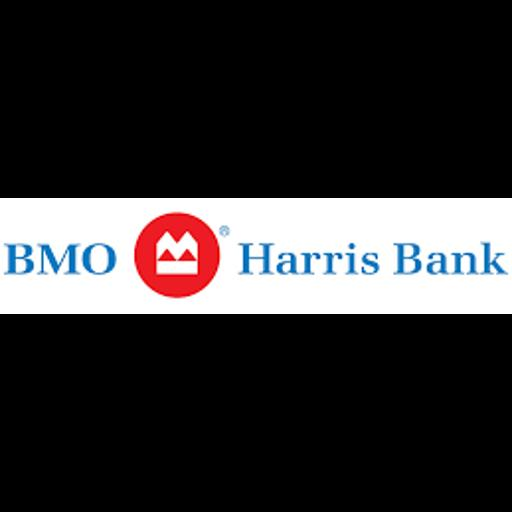Bank of Montreal: (0, 198, 512, 314)
